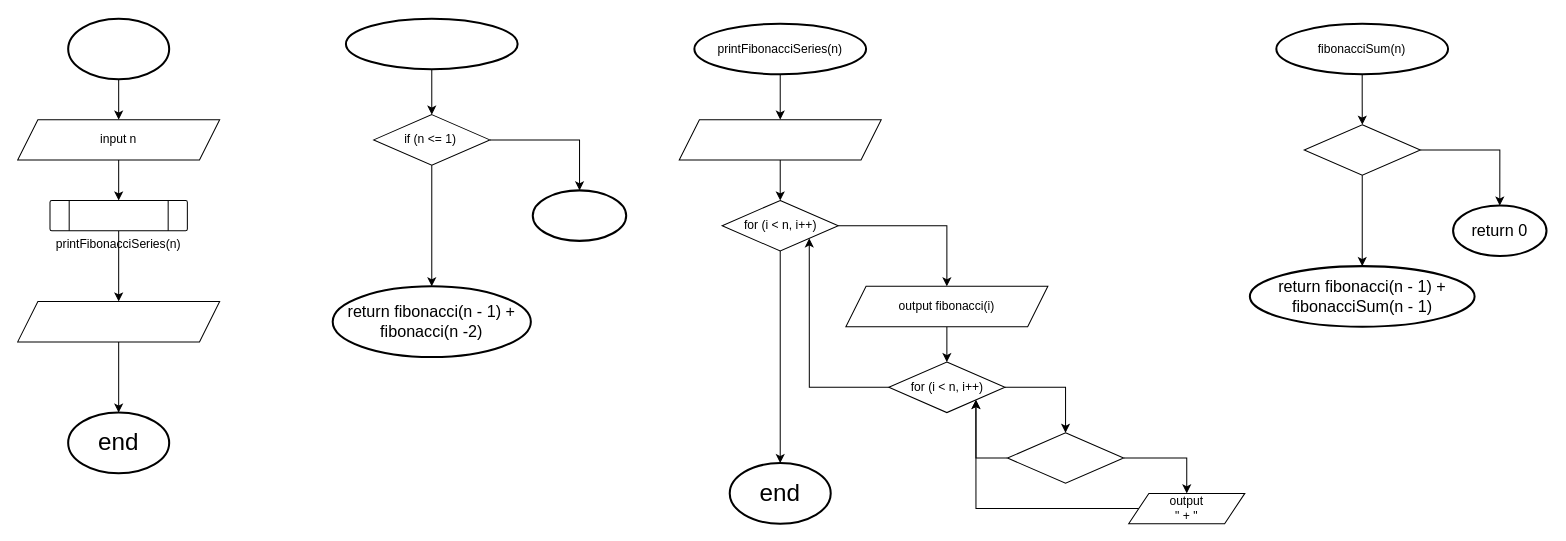
Image size: 1566x541. Some labels were removed from this diagram. Each missing label, with the centre of its shape:
fibonacci(n): point (431, 43)
if (i < n -1): point (1065, 457)
if (n <= 0 ): point (1361, 149)
output "Series = ": point (779, 139)
output "Sum =", fibonacciSum(n): point (118, 321)
return 1: point (579, 215)
start: point (118, 48)
